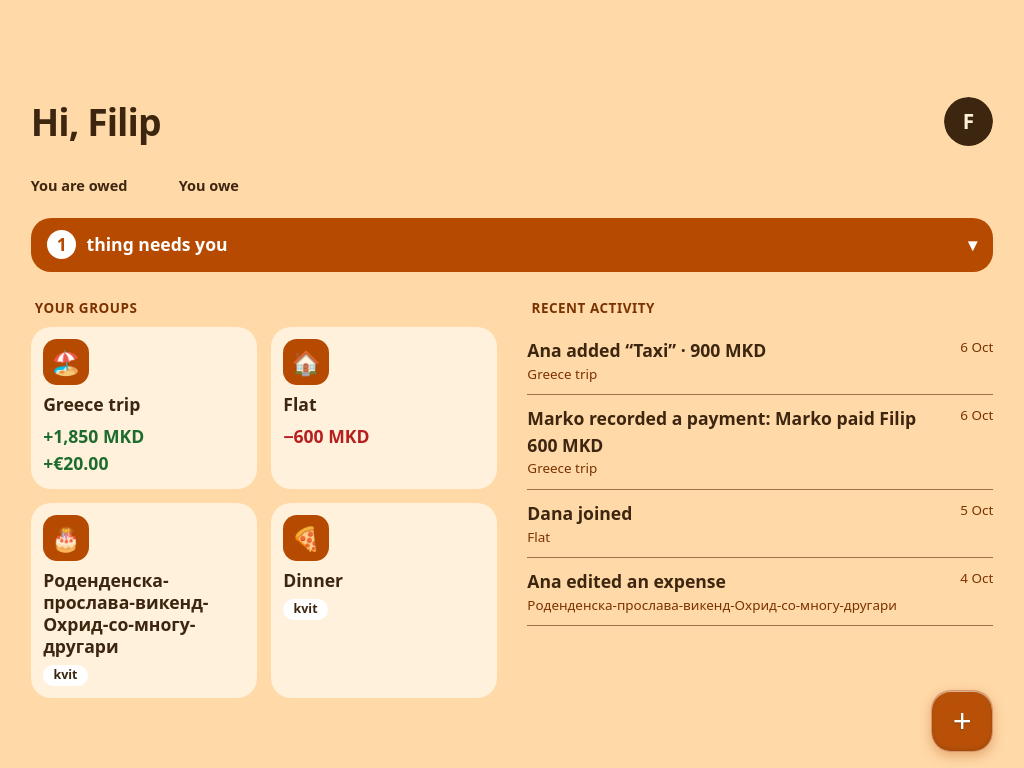
Test: answering a payment card from the home screen › replaces the bar with the quiet line when the last card is answered
Expected: the heading "Your groups" is shown, 35,299 -> 137,317
Click the button "1 thing needs you ▾": [157, 244] box 31,218 -> 993,272
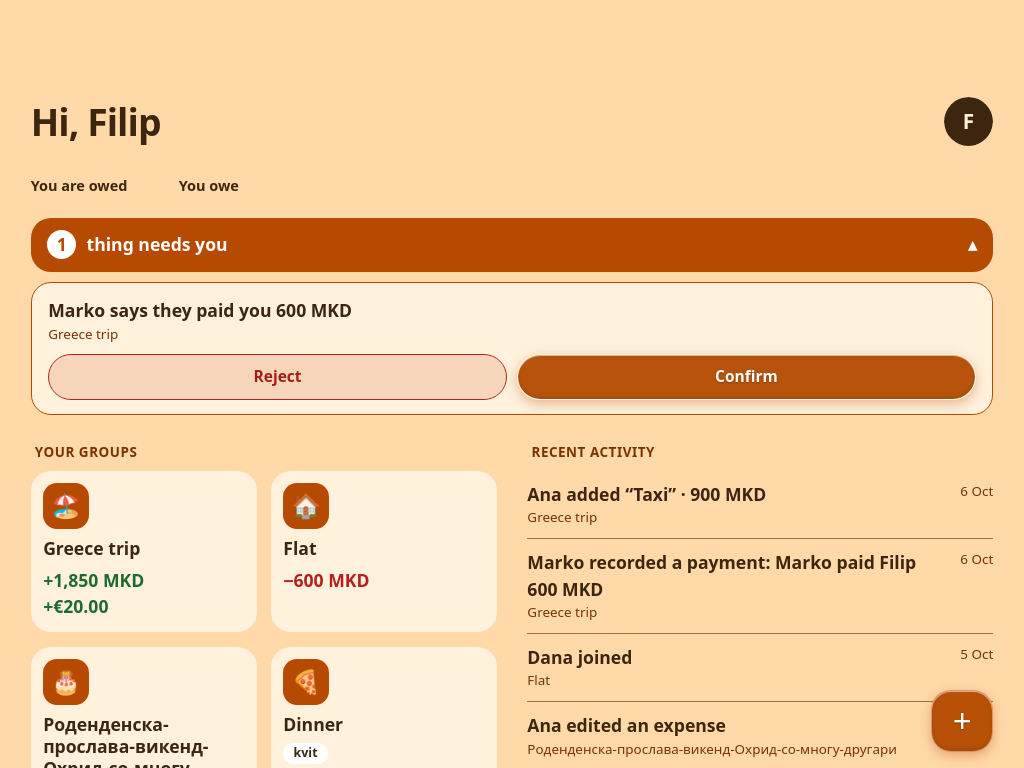
Click the button "Confirm": [746, 377] box 517,354 -> 976,400
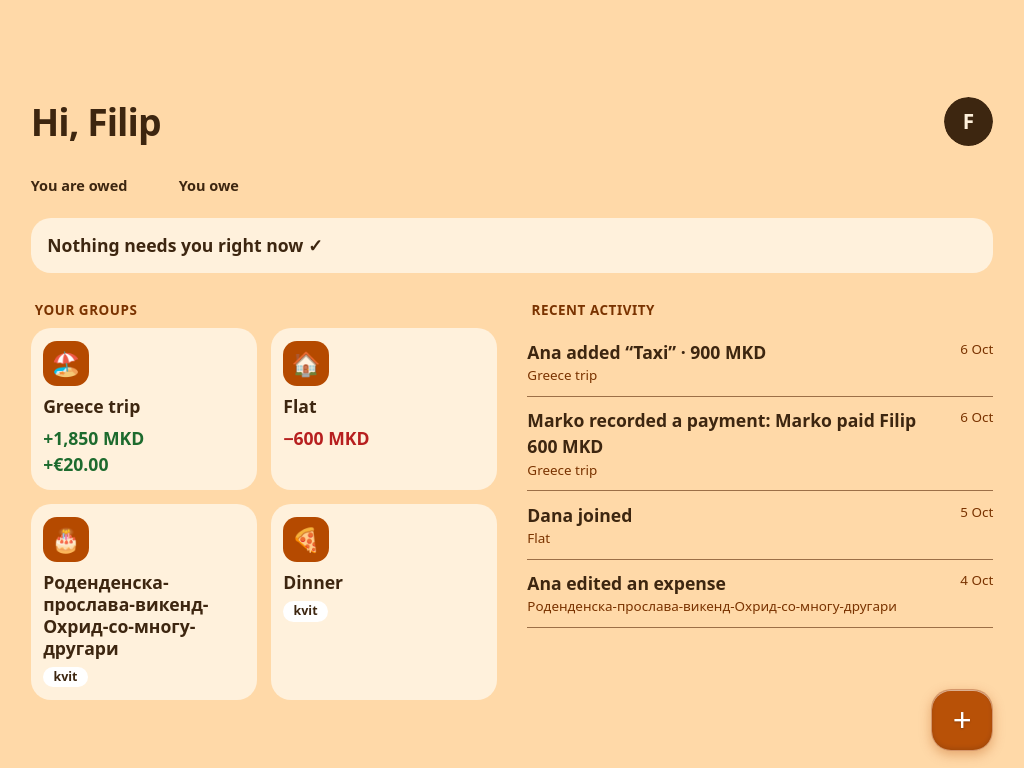
Result: the text "Nothing needs you right now ✓" is shown at 31,218 -> 993,273
